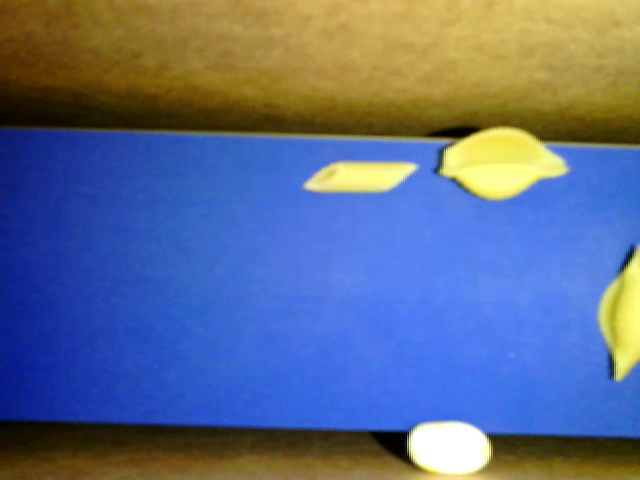penne: (302, 160, 420, 193)
shell: (437, 124, 569, 200), (598, 245, 639, 381)
